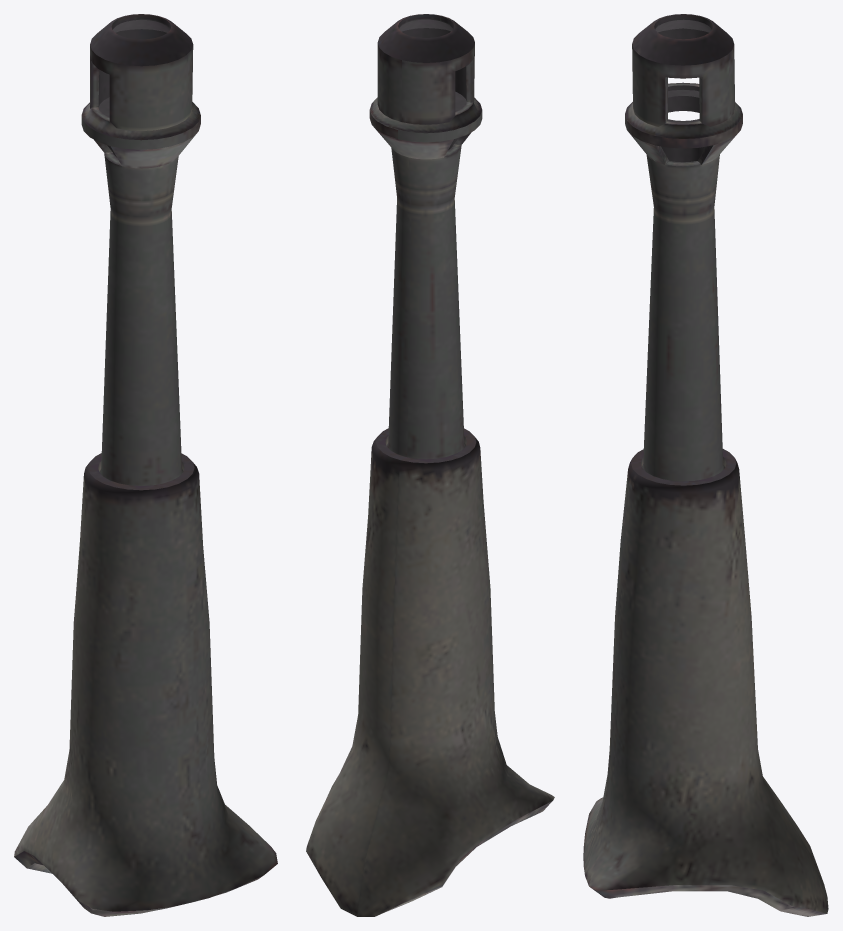
The model's file is Gun_12.glb.
3 views of the same model, side by side, from view 1: azimuth 30°, elevation 25°; view 2: azimuth 150°, elevation 25°; view 3: azimuth 270°, elevation 25° (orthographic). The views are drawn at different scales.
Parts seen in each view (by area): view 1: set_0_group_0; view 2: set_0_group_0; view 3: set_0_group_0.
Boxes of the visible parts, box(x1,y1,x2,y2) form: set_0_group_0: box(14, 14, 277, 916); set_0_group_0: box(306, 14, 554, 916); set_0_group_0: box(583, 14, 828, 916).
Bounding box in the file's own units: 0.5753 × 2.5 × 0.6263.
Materials: 1 (1 with a texture image).
